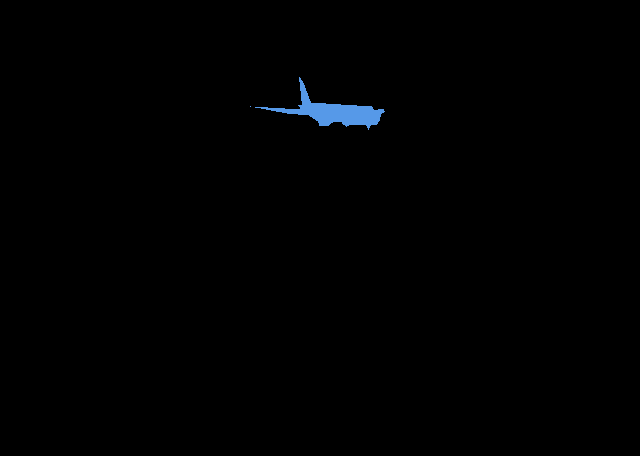Airplane: (250, 77, 384, 129)
